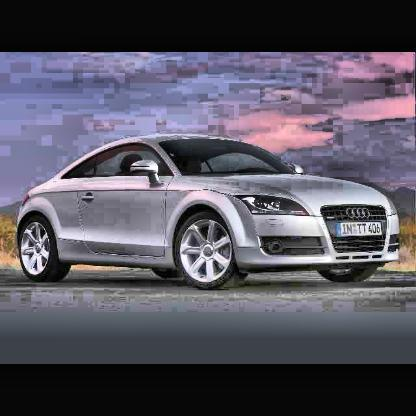Audi TTS Coupe 2012: (14, 133, 403, 283)
